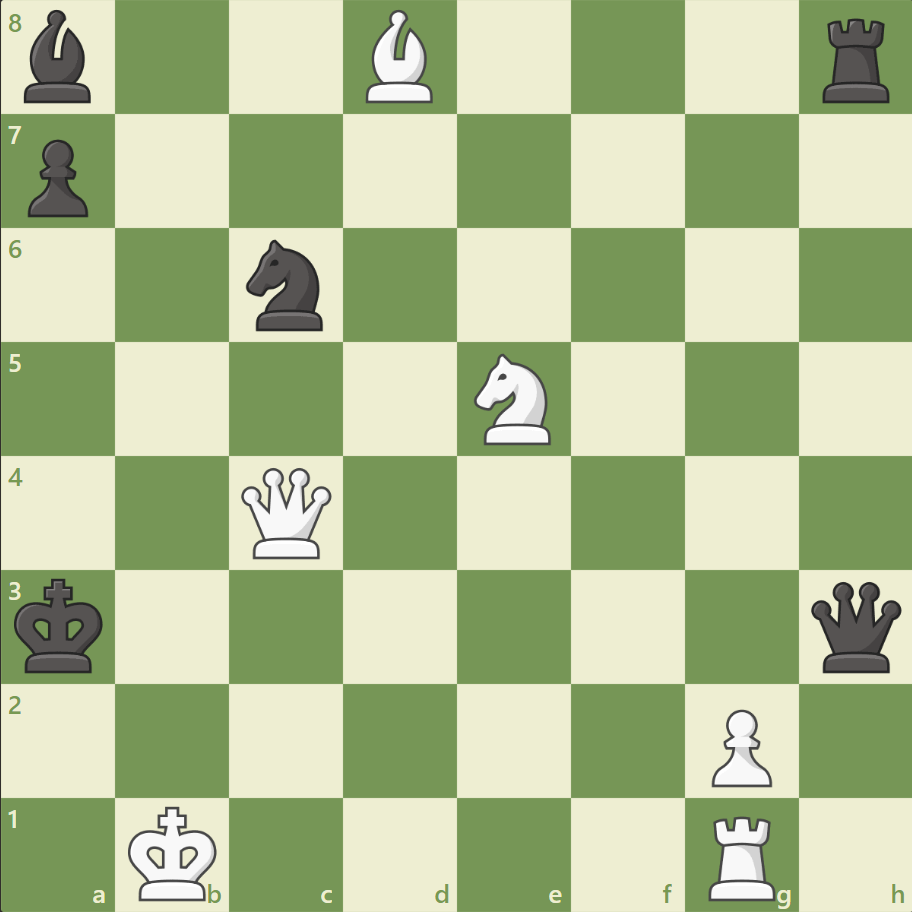B: (365, 12, 443, 115)
K: (128, 807, 226, 909)
N: (473, 354, 562, 455)
P: (709, 703, 781, 787)
Q: (241, 467, 342, 568)
R: (706, 808, 784, 908)
b: (24, 12, 103, 115)
k: (15, 580, 113, 682)
n: (246, 240, 335, 341)
p: (28, 135, 100, 220)
q: (808, 580, 909, 682)
r: (819, 13, 897, 113)
